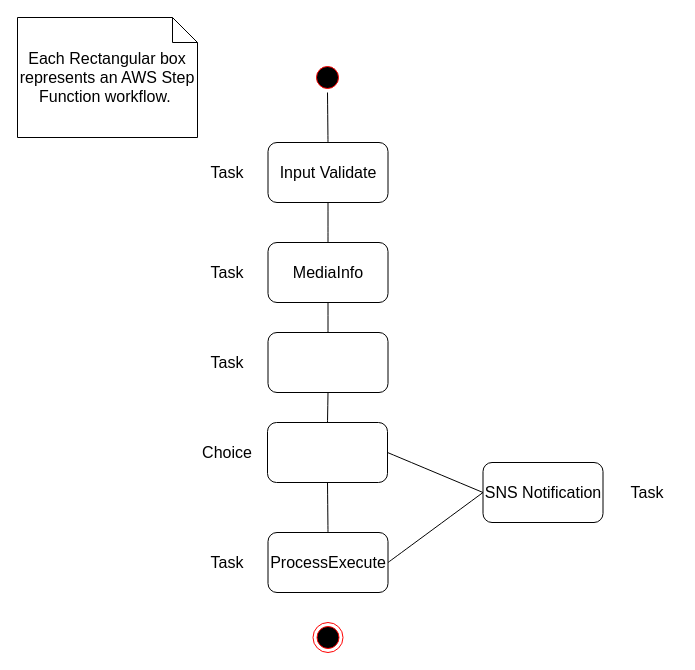
Image size: 695x670. Some labels were removed from this diagram. Here are the shapes that lost their labels. From the top down, the centre of each, then its label:
At point (327, 362): "DynamoDB Update".
At point (327, 452): "SNS Choice".
